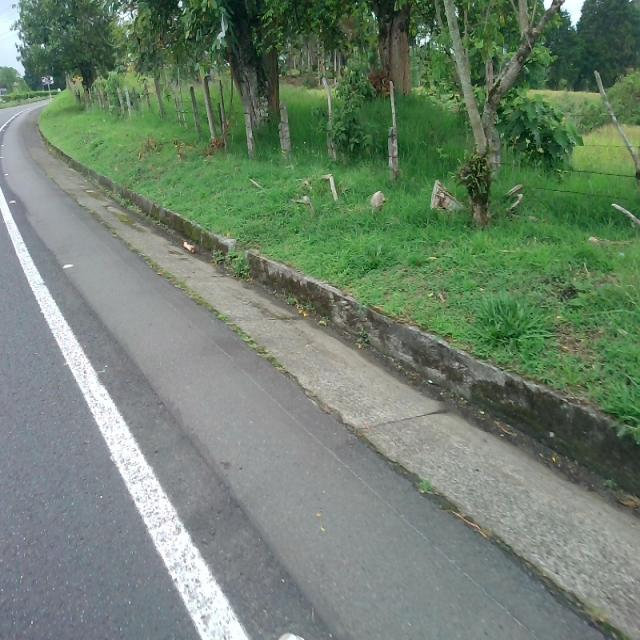DITCH: (20, 97, 638, 638), (24, 82, 639, 622)
